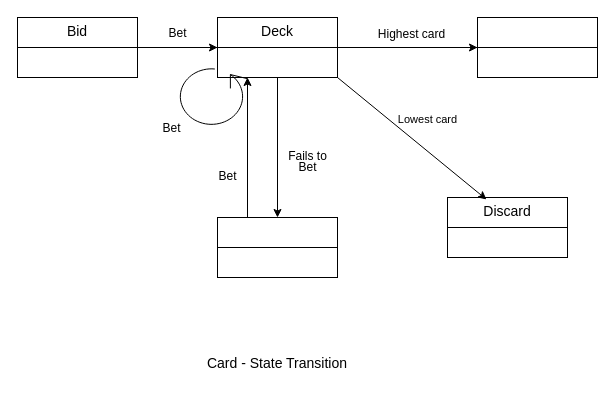
The diagram is 615 pixels wide and 405 high, and some of its shapes have lost their labels. Each missing label, with the centre of its shape:
"Deal" belongs at (277,247).
"Packet" belongs at (537,47).
